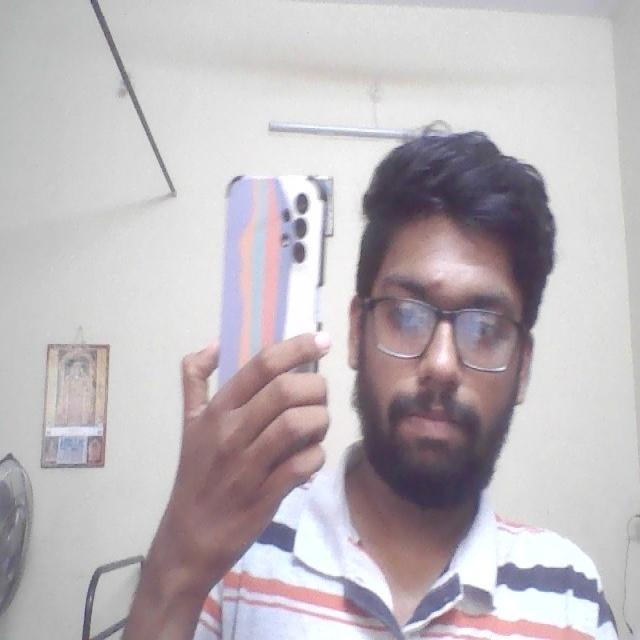Mobile: (215, 166, 333, 372)
